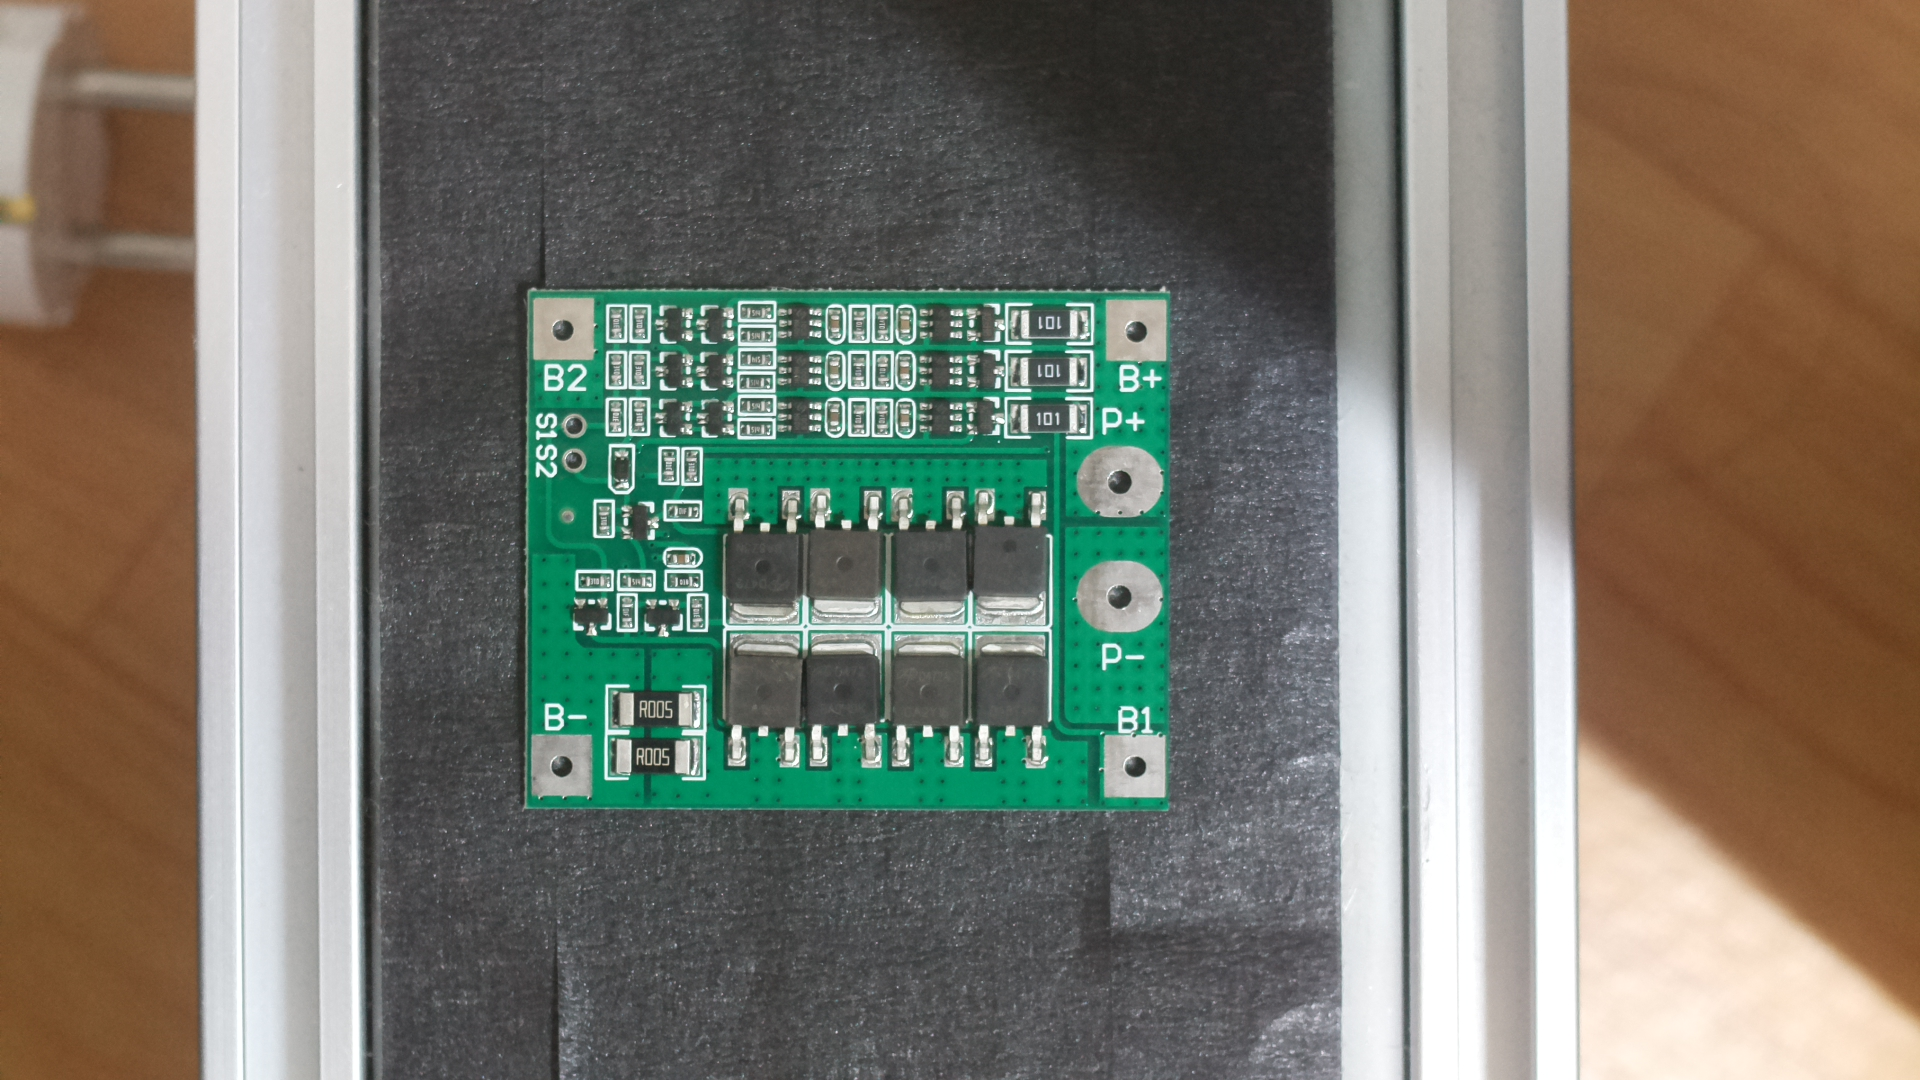C_Normal: (505, 274, 1187, 840)
